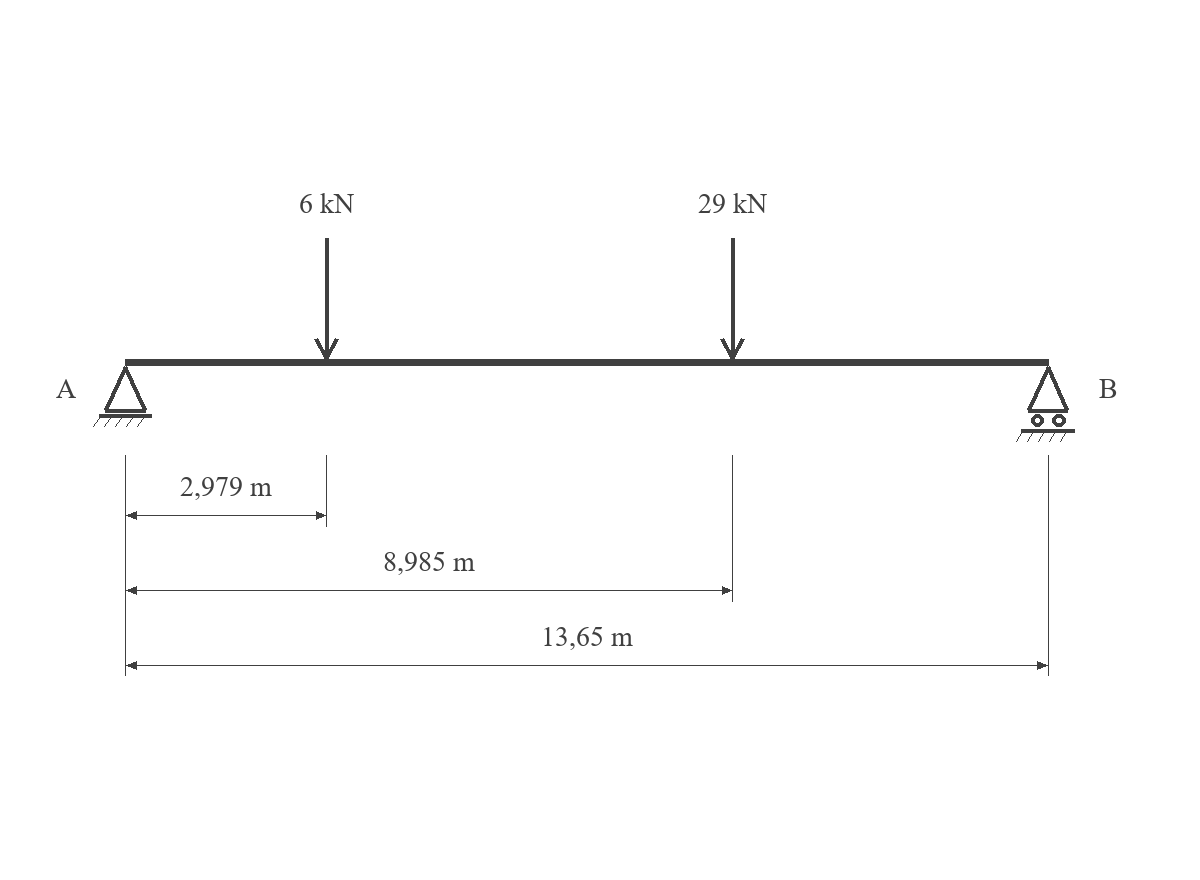pin_support: (93, 366, 152, 427)
point_load: (314, 238, 339, 360), (720, 238, 745, 360)
roller_support: (1016, 366, 1075, 442)
